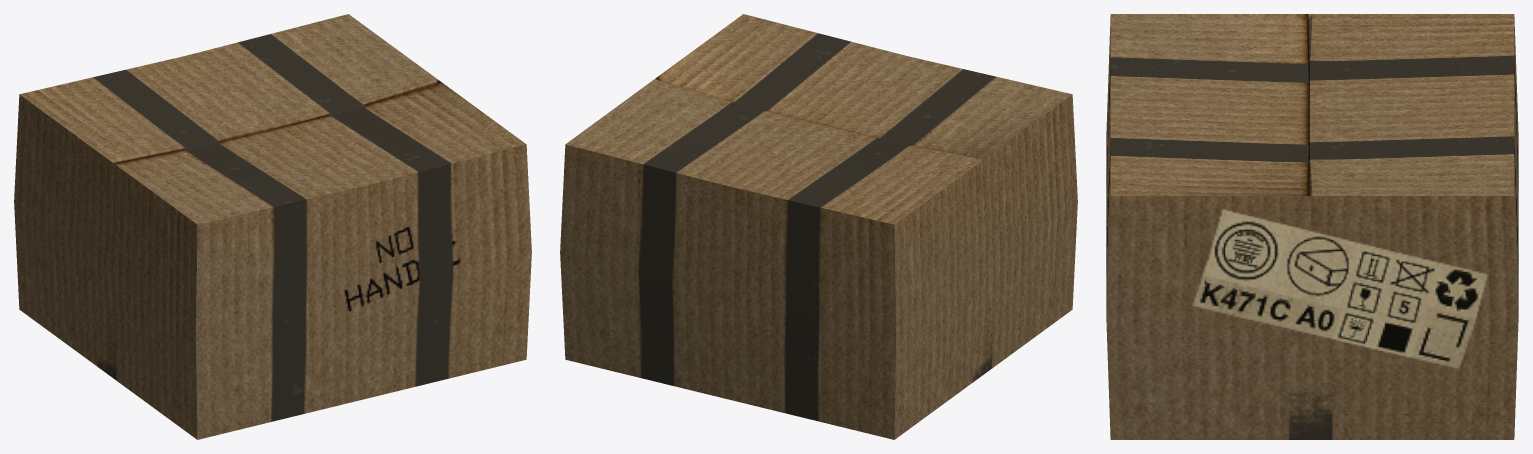
Rendered from cardboard_closed.glb.
3 renders of one model, left to right at view 1: azimuth 30°, elevation 25°; view 2: azimuth 150°, elevation 25°; view 3: azimuth 270°, elevation 25°, orthographic. The views are drawn at different scales.
Visible parts, largest first — view 1: cardboard_closed; view 2: cardboard_closed; view 3: cardboard_closed.
Boxes of the visible parts, x1=… form: cardboard_closed: x1=14, y1=14, x2=531, y2=439; cardboard_closed: x1=560, y1=14, x2=1077, y2=439; cardboard_closed: x1=1106, y1=14, x2=1518, y2=439.
Bounding box in the file's own units: 0.8166 × 0.5 × 0.7656.
Materials: 1 (1 with a texture image).
